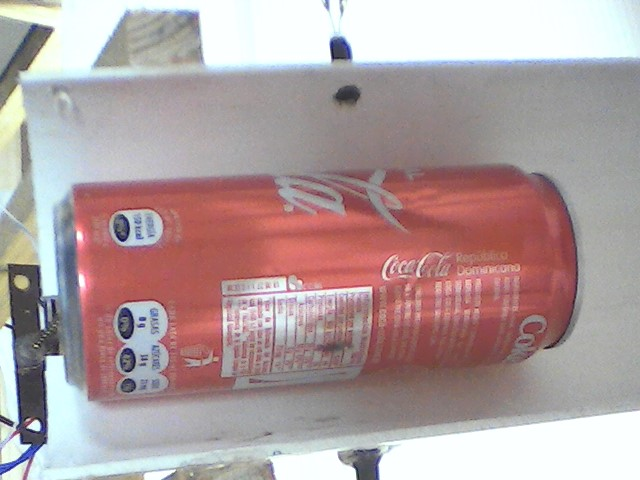lata: (51, 156, 597, 410)
